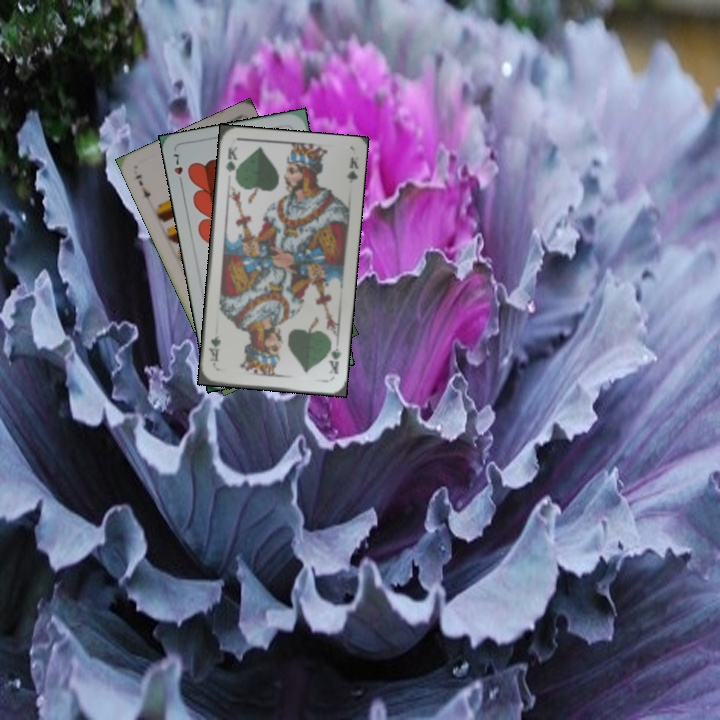E7: (131, 170, 153, 201)
GK: (221, 142, 241, 181), (324, 338, 344, 377)
H7: (170, 149, 185, 188)
